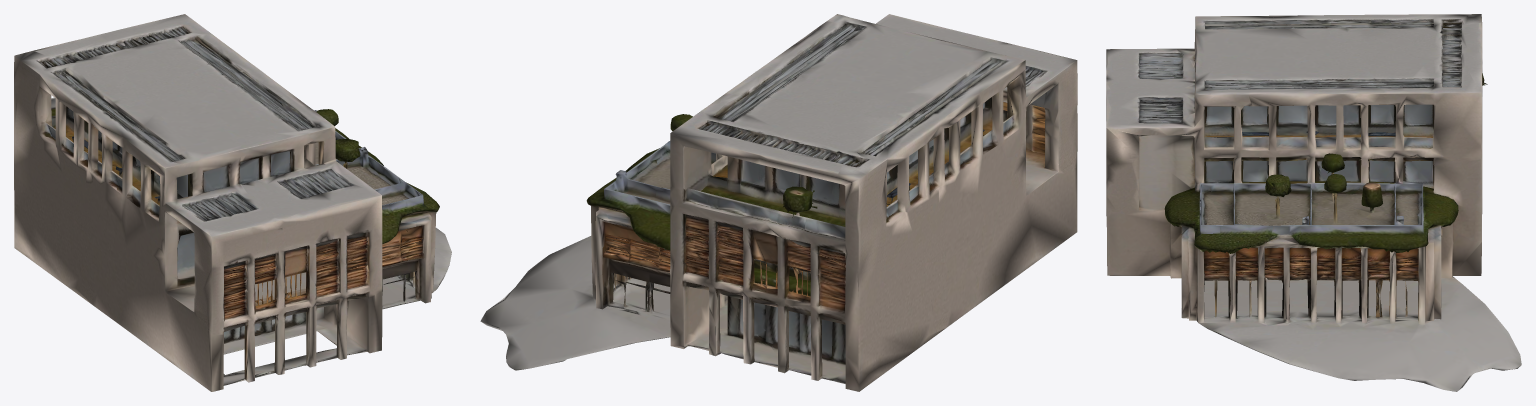
File: shopblk2_lod1.glb
3 views of the same model, side by side, from view 1: azimuth 30°, elevation 25°; view 2: azimuth 150°, elevation 25°; view 3: azimuth 270°, elevation 25° (orthographic). The views are drawn at different scales.
Parts seen in each view (by area): view 1: tripo_node_5acd3120-45ed-42f4-8d7c-3d152befa4bf; view 2: tripo_node_5acd3120-45ed-42f4-8d7c-3d152befa4bf; view 3: tripo_node_5acd3120-45ed-42f4-8d7c-3d152befa4bf.
Boxes of the visible parts, <box> form: tripo_node_5acd3120-45ed-42f4-8d7c-3d152befa4bf: <box>14,14,451,391</box>; tripo_node_5acd3120-45ed-42f4-8d7c-3d152befa4bf: <box>480,14,1077,391</box>; tripo_node_5acd3120-45ed-42f4-8d7c-3d152befa4bf: <box>1106,14,1521,391</box>.
Bounding box in the file's own units: 19.6 × 11.98 × 20.78.
1 material, 1 textured.
